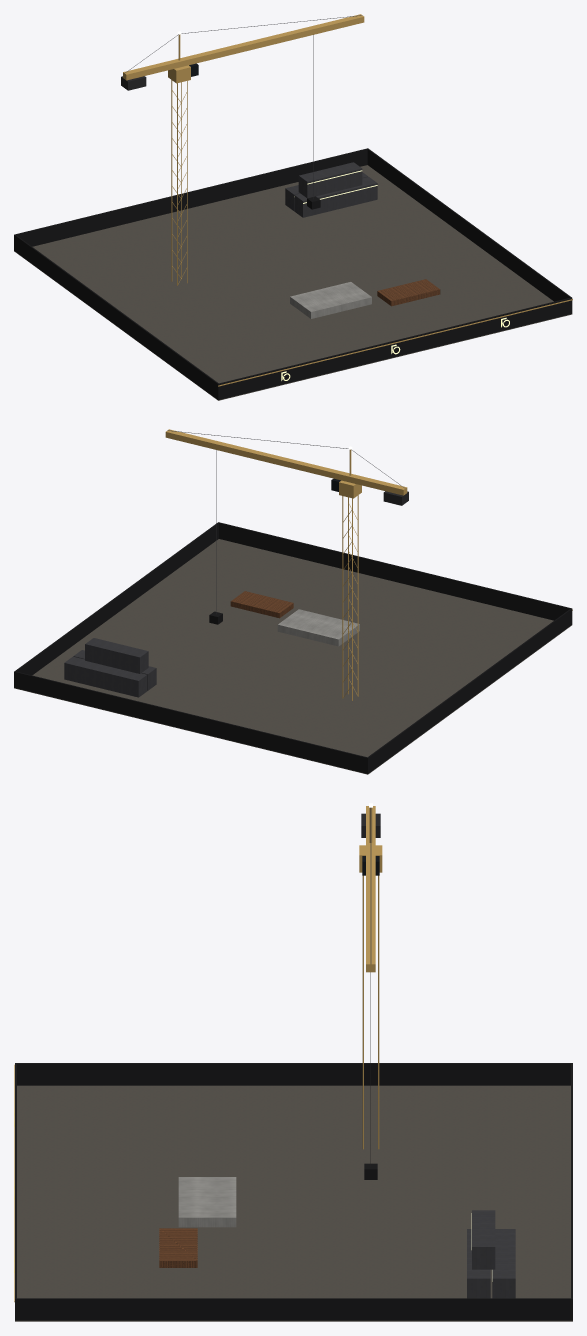
The model's file is plot_locked.glb.
3 renders of one model, top to bottom at view 1: azimuth 30°, elevation 25°; view 2: azimuth 150°, elevation 25°; view 3: azimuth 270°, elevation 25°, orthographic. The views are drawn at different scales.
Visible parts, largest first — view 1: gravel_plot_locked, black_metal_plot_locked, gold_paint_plot_locked, cladding_plot_locked, concrete_plot_locked, wood_plot_locked; view 2: gravel_plot_locked, black_metal_plot_locked, gold_paint_plot_locked, cladding_plot_locked, concrete_plot_locked, wood_plot_locked; view 3: gravel_plot_locked, black_metal_plot_locked, cladding_plot_locked, gold_paint_plot_locked, concrete_plot_locked, wood_plot_locked.
Boxes of the visible parts, x1=… form: gravel_plot_locked: x1=14, y1=165, x2=572, y2=400; black_metal_plot_locked: x1=14, y1=148, x2=572, y2=399; gold_paint_plot_locked: x1=123, y1=14, x2=572, y2=386; cladding_plot_locked: x1=285, y1=162, x2=377, y2=217; concrete_plot_locked: x1=290, y1=282, x2=371, y2=318; wood_plot_locked: x1=377, y1=279, x2=440, y2=306; gravel_plot_locked: x1=14, y1=539, x2=571, y2=774; black_metal_plot_locked: x1=14, y1=522, x2=572, y2=773; gold_paint_plot_locked: x1=165, y1=429, x2=572, y2=700; cladding_plot_locked: x1=64, y1=638, x2=156, y2=697; concrete_plot_locked: x1=277, y1=609, x2=359, y2=646; wood_plot_locked: x1=230, y1=591, x2=293, y2=618; gravel_plot_locked: x1=15, y1=1085, x2=572, y2=1321; black_metal_plot_locked: x1=15, y1=1063, x2=572, y2=1320; cladding_plot_locked: x1=467, y1=1210, x2=515, y2=1298; gold_paint_plot_locked: x1=14, y1=806, x2=382, y2=1302; concrete_plot_locked: x1=178, y1=1177, x2=236, y2=1227; wood_plot_locked: x1=159, y1=1228, x2=197, y2=1267.
Size of the model in its own units: 58.1 by 39.3 by 58.1.
Materials: 11 (4 with a texture image).
